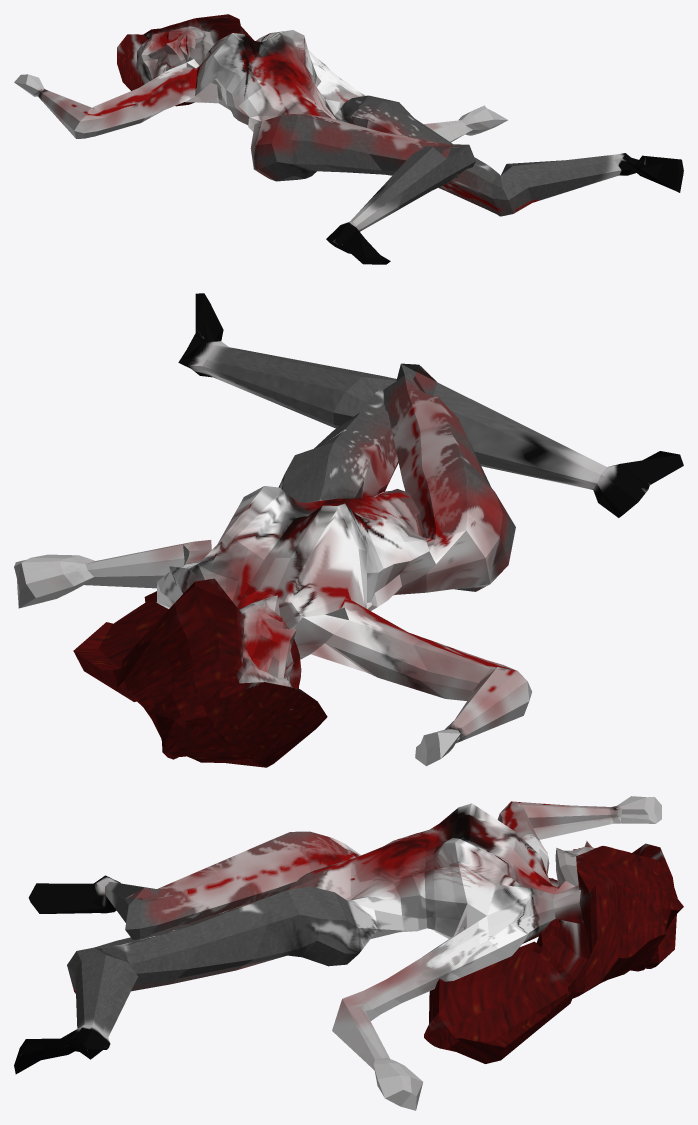
3 views of the same model, one above another, from view 1: azimuth 30°, elevation 25°; view 2: azimuth 150°, elevation 25°; view 3: azimuth 270°, elevation 25° (orthographic). The views are drawn at different scales.
Parts seen in each view (by area): view 1: FD.001; view 2: FD.001; view 3: FD.001.
Part boxes in pixels (box(x1,y1,x2,y2)): FD.001: box(14, 14, 683, 264); FD.001: box(14, 293, 683, 767); FD.001: box(14, 796, 683, 1110).
Size of the model in its own units: 129 by 42.82 by 146.
